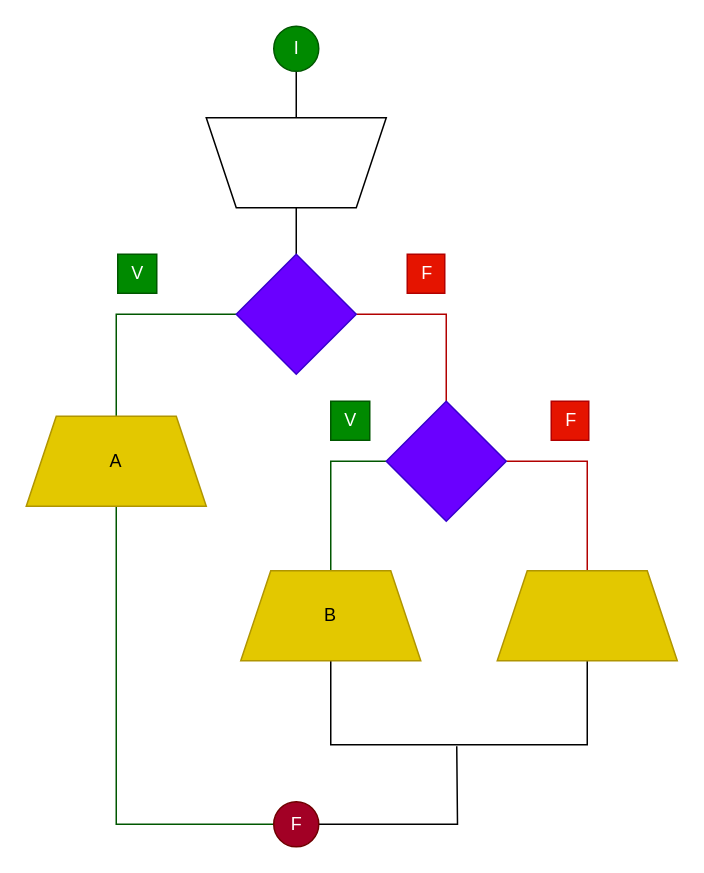
Some shapes in this 704 by 873 pixel diagram are drawn without their labels. The centre of each missing label's shape, as x and y in pixels:
"Son iguales": (586,615)
A , B: (295,162)
A > B: (295,313)
B > A: (445,460)
